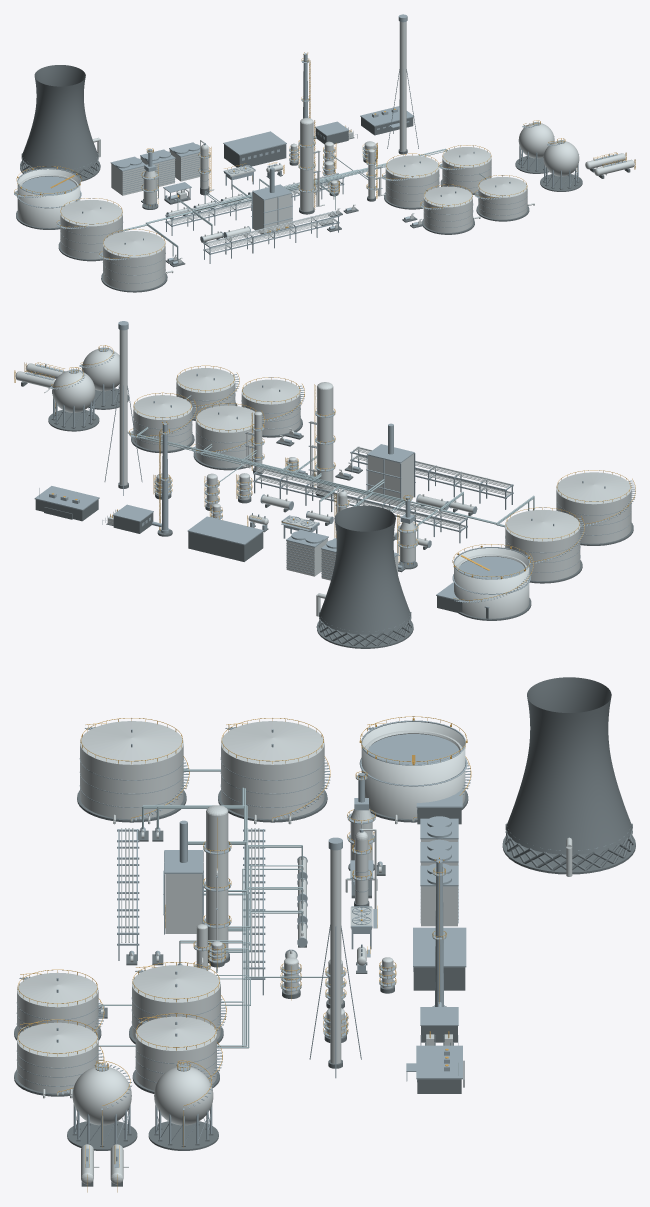
File: refinery.glb
The picture shows the model from 3 angles, top to bottom: view 1: azimuth 30°, elevation 25°; view 2: azimuth 150°, elevation 25°; view 3: azimuth 270°, elevation 25°; orthographic projection. The views are drawn at different scales.
Parts seen in each view (by area): view 1: CT-404_geometry, TK-101_geometry, TK-103_geometry, TK-102_geometry, TK-301_geometry, TK-302_geometry, TK-304_geometry, TK-303_geometry, F-201_geometry, SP-501_geometry, T-201_geometry, B-401_geometry (+20 smaller); view 2: CT-404_geometry, TK-103_geometry, TK-101_geometry, TK-102_geometry, TK-301_geometry, TK-303_geometry, TK-302_geometry, F-201_geometry, SP-502_geometry, B-401_geometry, TK-304_geometry, T-201_geometry (+19 smaller); view 3: CT-404_geometry, TK-101_geometry, TK-102_geometry, TK-103_geometry, TK-304_geometry, TK-301_geometry, TK-303_geometry, SP-502_geometry, SP-501_geometry, TK-302_geometry, F-201_geometry, T-201_geometry (+14 smaller).
Boxes of the visible parts, left/top/right/bottom form: CT-404_geometry: left=20, top=65, right=100, bottom=181; TK-101_geometry: left=99, top=229, right=173, bottom=292; TK-103_geometry: left=14, top=166, right=81, bottom=229; TK-102_geometry: left=56, top=198, right=123, bottom=261; TK-301_geometry: left=382, top=153, right=439, bottom=209; TK-302_geometry: left=420, top=184, right=480, bottom=234; TK-304_geometry: left=474, top=175, right=534, bottom=221; TK-303_geometry: left=439, top=145, right=496, bottom=194; F-201_geometry: left=251, top=167, right=292, bottom=237; SP-501_geometry: left=540, top=138, right=582, bottom=191; T-201_geometry: left=298, top=118, right=324, bottom=214; B-401_geometry: left=223, top=131, right=286, bottom=167; CT-404_geometry: left=316, top=505, right=413, bottom=648; TK-103_geometry: left=452, top=544, right=533, bottom=620; TK-101_geometry: left=556, top=470, right=635, bottom=545; TK-102_geometry: left=505, top=507, right=584, bottom=583; TK-301_geometry: left=186, top=403, right=264, bottom=470; TK-303_geometry: left=127, top=392, right=196, bottom=453; TK-302_geometry: left=241, top=377, right=304, bottom=437; F-201_geometry: left=366, top=423, right=415, bottom=507; SP-502_geometry: left=48, top=367, right=99, bottom=431; B-401_geometry: left=187, top=516, right=263, bottom=561; TK-304_geometry: left=176, top=365, right=239, bottom=420; T-201_geometry: left=308, top=382, right=335, bottom=497; CT-404_geometry: left=502, top=677, right=635, bottom=876; TK-101_geometry: left=77, top=718, right=189, bottom=824; TK-102_geometry: left=218, top=718, right=330, bottom=824; TK-103_geometry: left=359, top=716, right=471, bottom=824; TK-304_geometry: left=14, top=1019, right=104, bottom=1098; TK-301_geometry: left=129, top=962, right=226, bottom=1044; TK-303_geometry: left=132, top=1013, right=222, bottom=1093; SP-502_geometry: left=148, top=1060, right=218, bottom=1150; SP-501_geometry: left=67, top=1060, right=137, bottom=1150; TK-302_geometry: left=14, top=969, right=104, bottom=1040; F-201_geometry: left=163, top=820, right=203, bottom=934; T-201_geometry: left=203, top=805, right=231, bottom=970.
Bounding box in the file's own units: 267 × 67.04 × 168.
